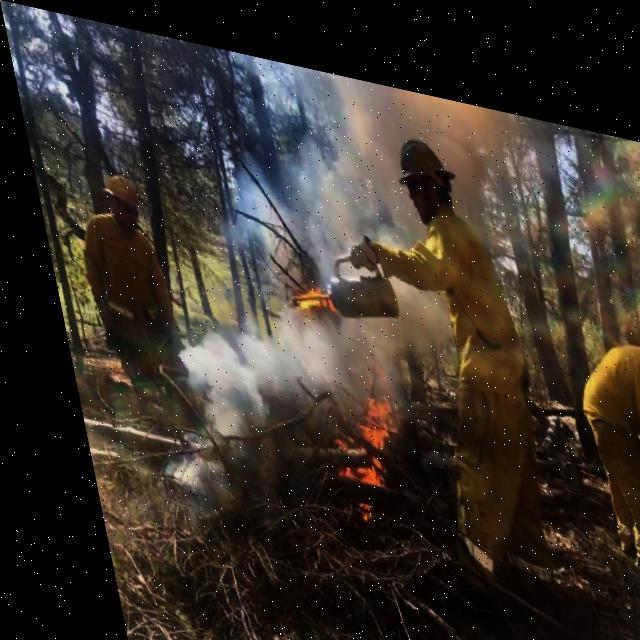Fire: (294, 352, 411, 514), (280, 266, 322, 306)
